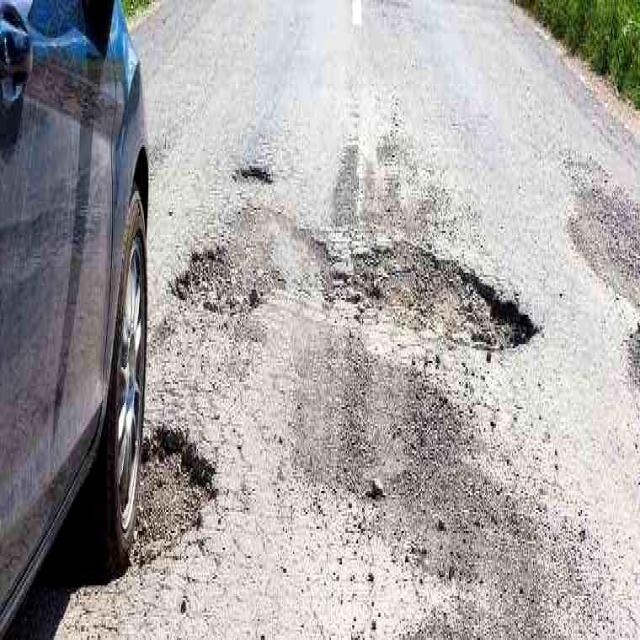pothole: (336, 246, 544, 356), (140, 422, 216, 566), (172, 228, 251, 326), (230, 157, 272, 193)
